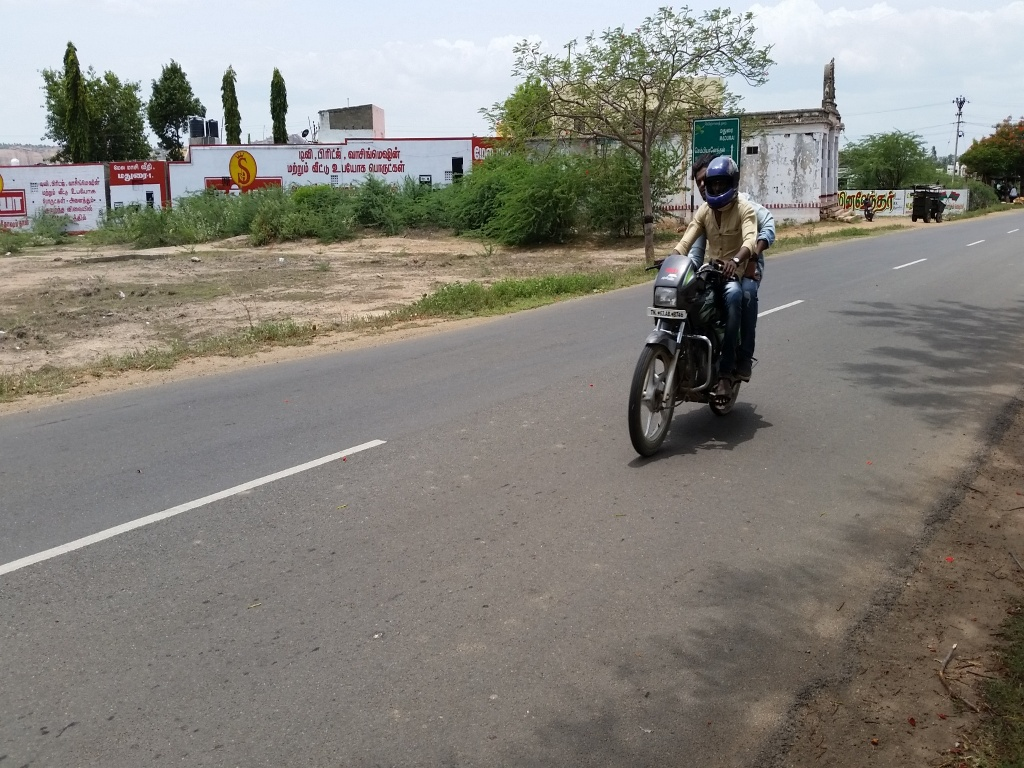biker: (596, 115, 812, 475)
helmet: (706, 148, 746, 212)
nohelmet: (688, 151, 708, 201)
